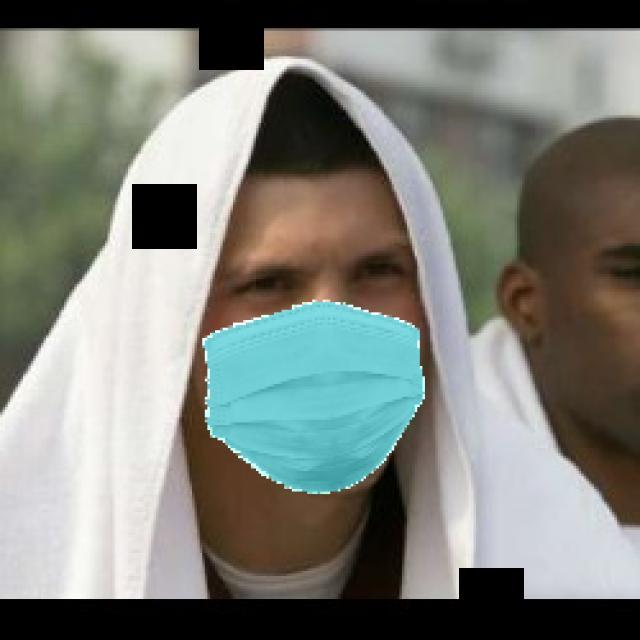surgical: (185, 190, 430, 500)
